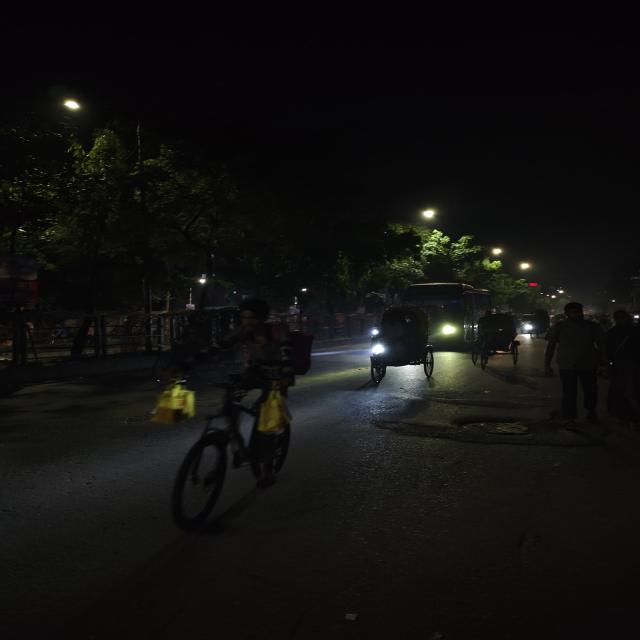bicycle: (132, 295, 313, 545)
bus: (391, 279, 494, 345)
pedestrian: (541, 301, 616, 423), (602, 306, 640, 422)
rickshaw: (350, 302, 441, 386), (466, 307, 526, 368)
